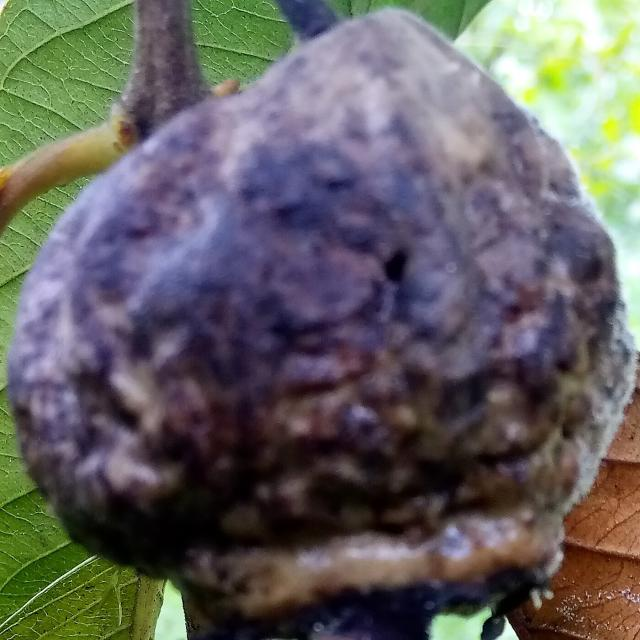Phytopthora: (9, 10, 634, 640)
